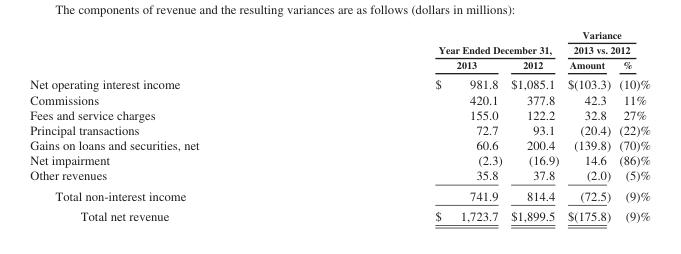table: (29, 28, 650, 222)
table column: (29, 28, 316, 222), (316, 28, 505, 222), (505, 28, 562, 222), (562, 28, 614, 222), (614, 28, 650, 222)
table column header: (29, 28, 650, 73)
table row: (29, 28, 650, 57), (29, 185, 650, 205), (29, 73, 650, 91), (29, 167, 650, 185), (29, 205, 650, 222), (29, 57, 650, 73), (29, 106, 650, 122), (29, 91, 650, 106), (29, 122, 650, 137), (29, 137, 650, 152), (29, 152, 650, 167)
table spanning cell: (316, 28, 562, 57), (562, 28, 650, 57)
